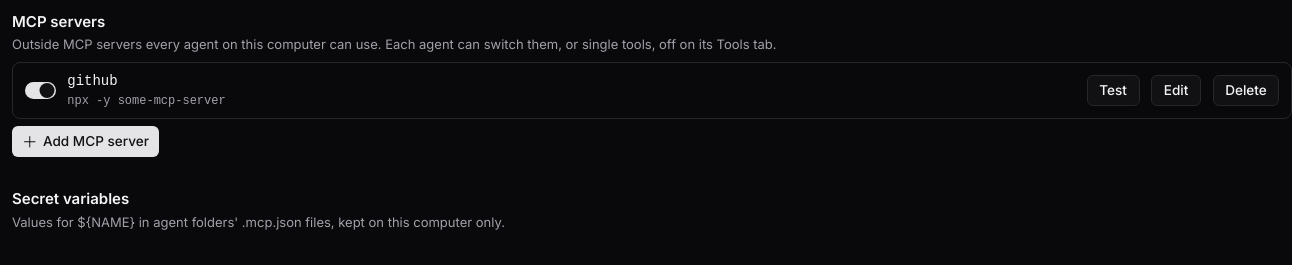
McpServersGroup › test Delete asks to confirm
This screenshot has width=1292, height=265.
Later steps or results of the test are not shown.
Click the button "Delete" at (1246, 90), box [1213, 75, 1279, 106]
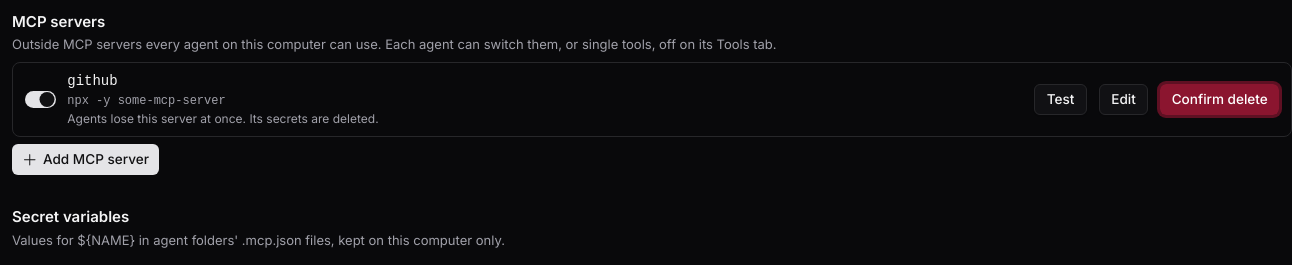
Now the text "Agents lose this server at once. Its secrets are deleted." is shown, box [67, 111, 379, 126]
